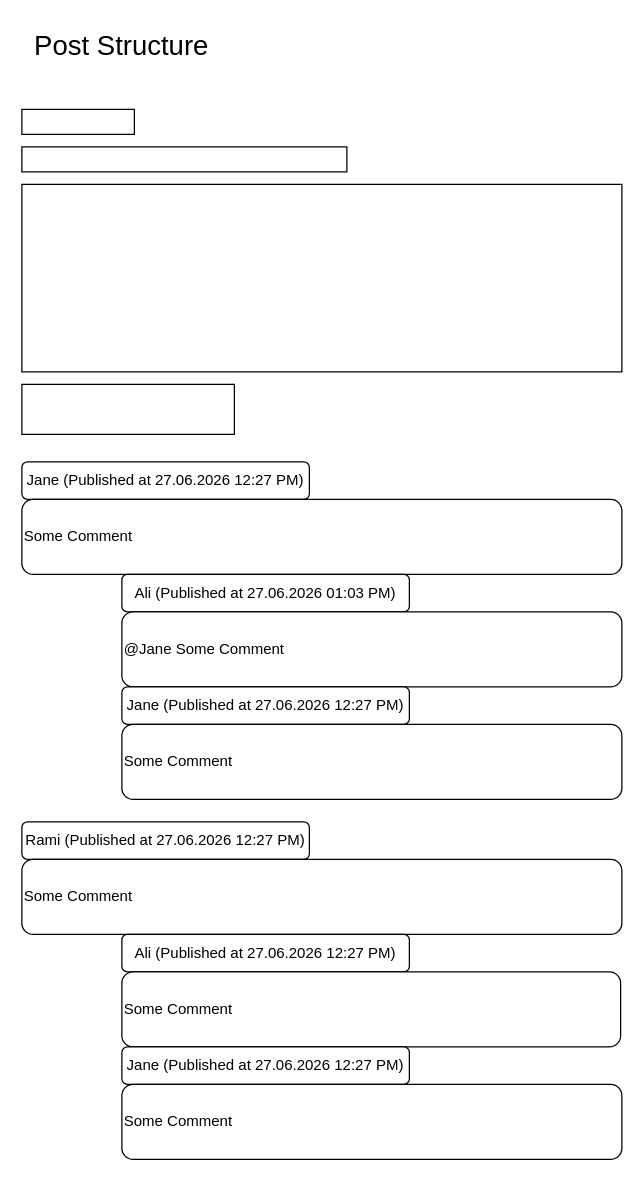
The diagram is 644 pixels wide and 1181 high, and some of its shapes have lost their labels. The box of each missing label's shape, as (x1, y1, x2, y2) in pixels:
Comments: (21, 383, 234, 434)
Content: (21, 183, 622, 372)
Published by James at 27.06.2026 12:00 PM: (21, 146, 347, 172)
Title: (21, 108, 134, 134)
